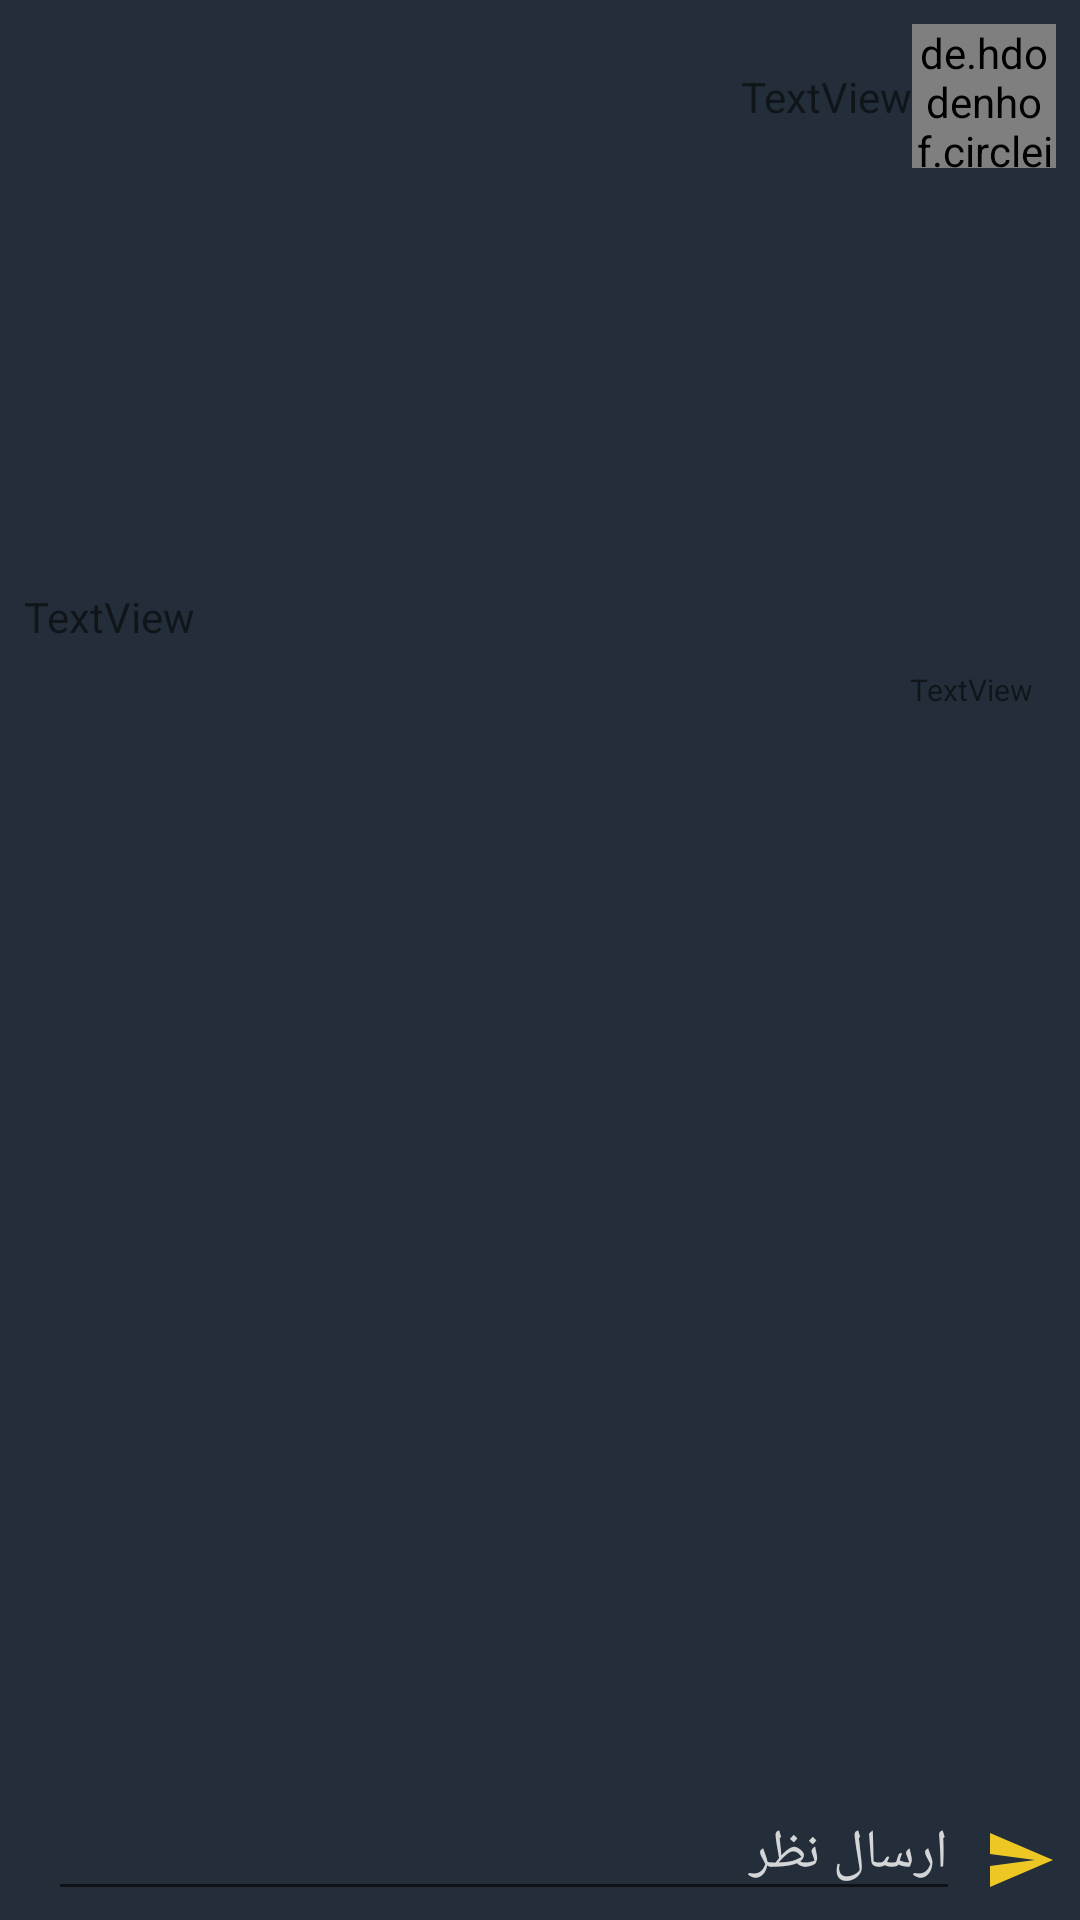

Icon click points for this 1080px×1920px phone screenshot, format (x=x, y=y):
send: (x=1021, y=1860)
